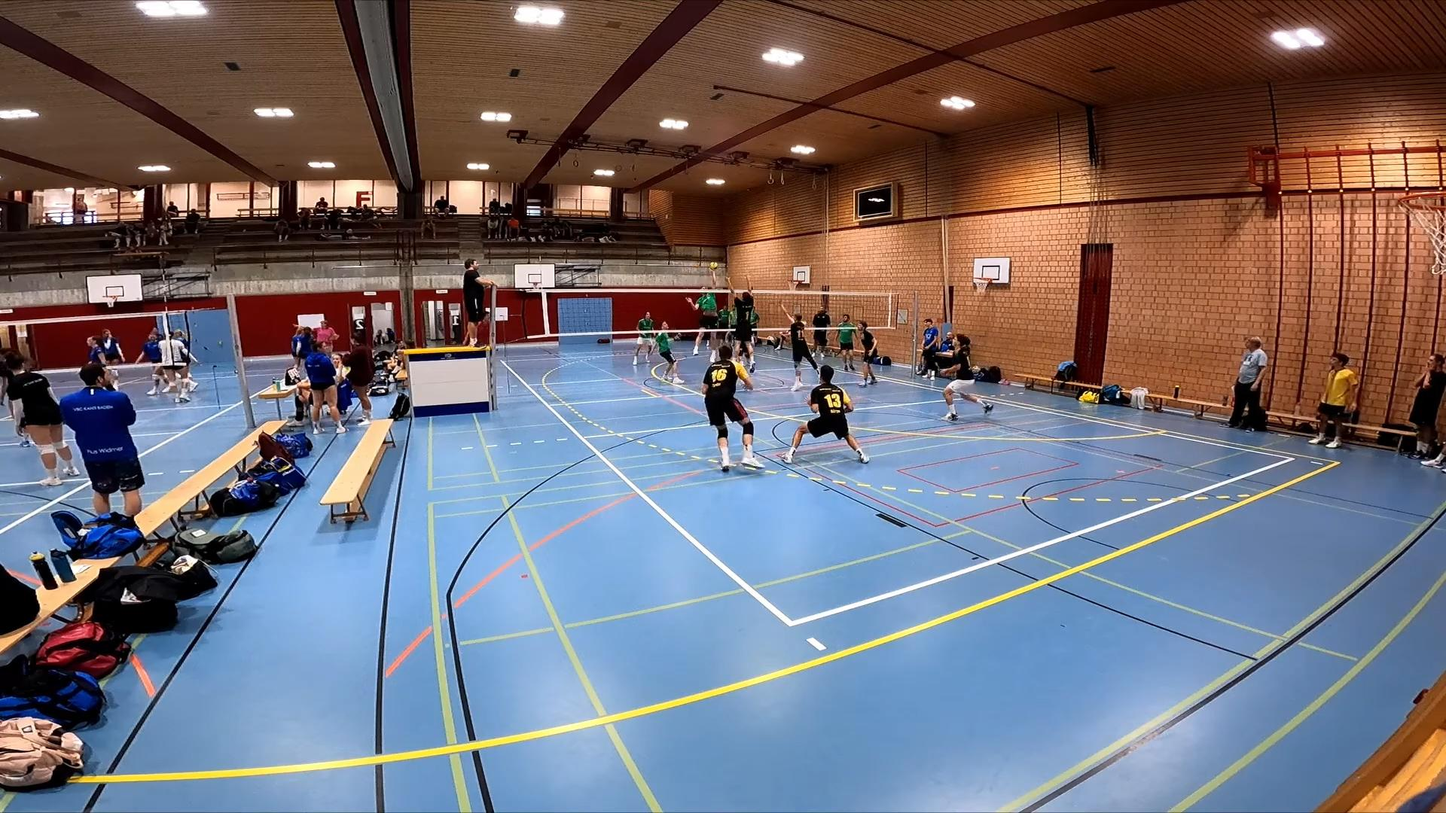Attack: (684, 270, 720, 364)
Block: (721, 279, 762, 375)
Player: (782, 364, 868, 462), (700, 344, 762, 470), (941, 349, 993, 420), (780, 306, 818, 391), (656, 321, 682, 384), (859, 320, 877, 385), (632, 312, 654, 365), (715, 306, 732, 343), (749, 307, 759, 361)
ball: (709, 263, 723, 271)
